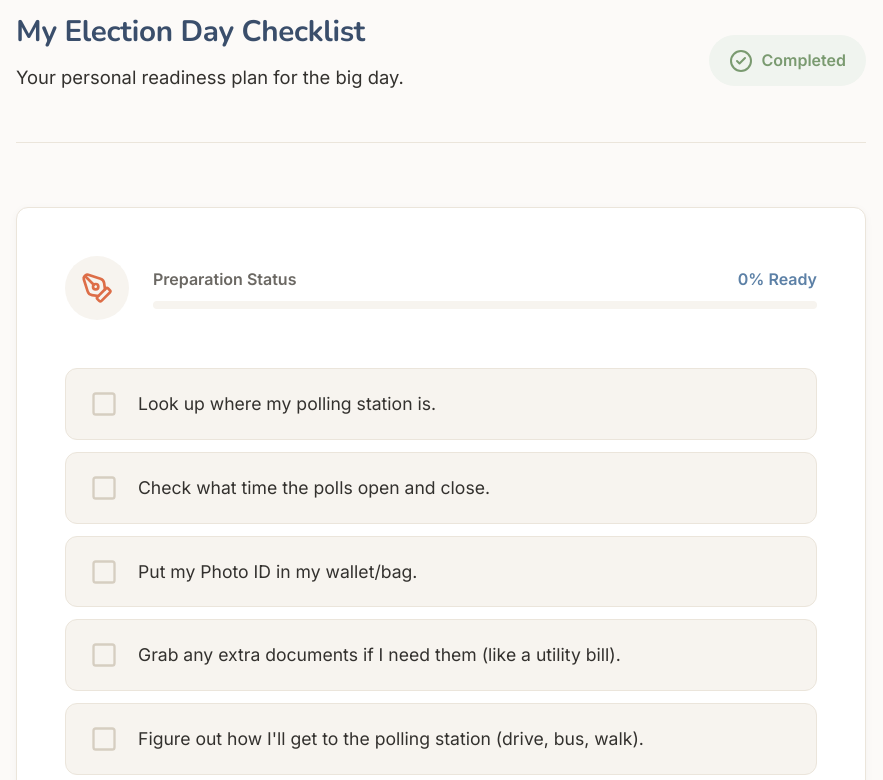
Test: core sections › updates the election day checklist as items are checked
This screenshot has width=883, height=780.
Click the text "Look up where my polling station is.". click: (287, 404)
box: [138,389,436,419]
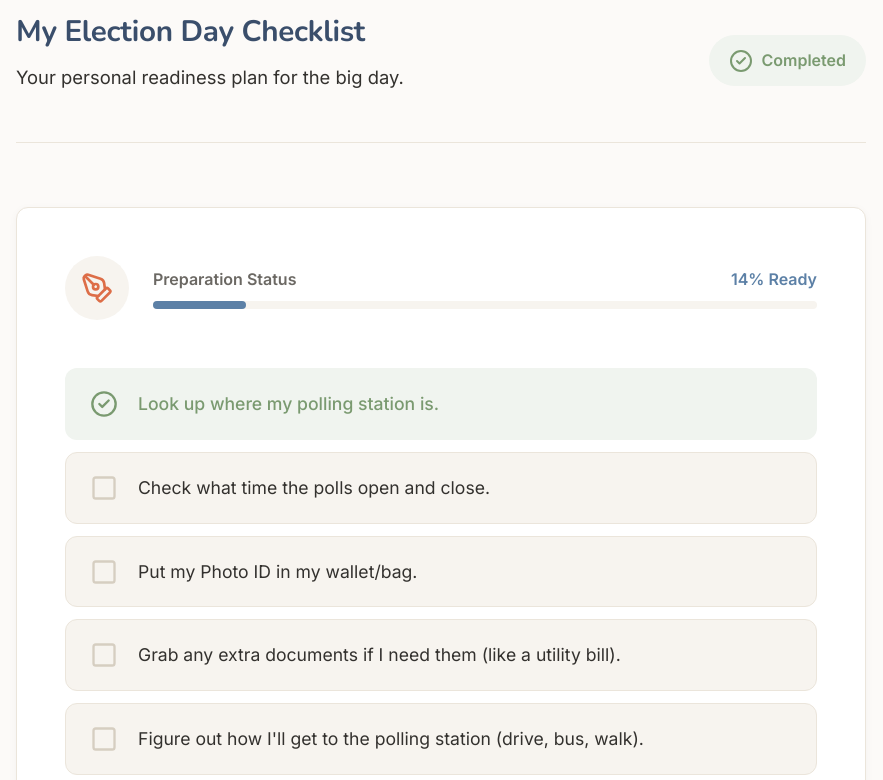
Expected: the text "14% Ready" is shown, [731,266,817,293]
